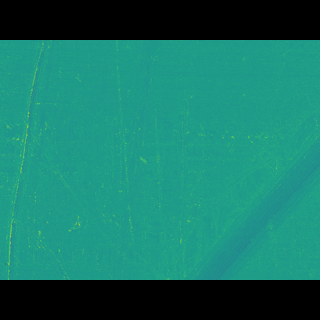Loch: (140, 123, 320, 252), (0, 121, 273, 192), (0, 69, 58, 251), (107, 69, 164, 250)
